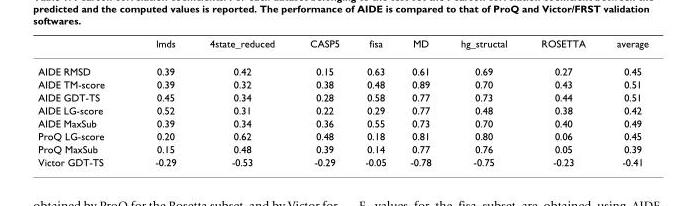table: (37, 37, 648, 167)
table column: (192, 37, 291, 167), (37, 37, 129, 167), (445, 37, 523, 167), (523, 37, 600, 167), (129, 37, 192, 167), (291, 37, 351, 167), (397, 37, 445, 167), (600, 37, 648, 167), (351, 37, 397, 167)
table column header: (37, 37, 648, 57)
table row: (37, 37, 648, 57), (37, 57, 648, 77), (37, 77, 648, 90), (37, 90, 648, 103), (37, 103, 648, 116), (37, 116, 648, 129), (37, 129, 648, 142), (37, 142, 648, 155), (37, 155, 648, 167)
